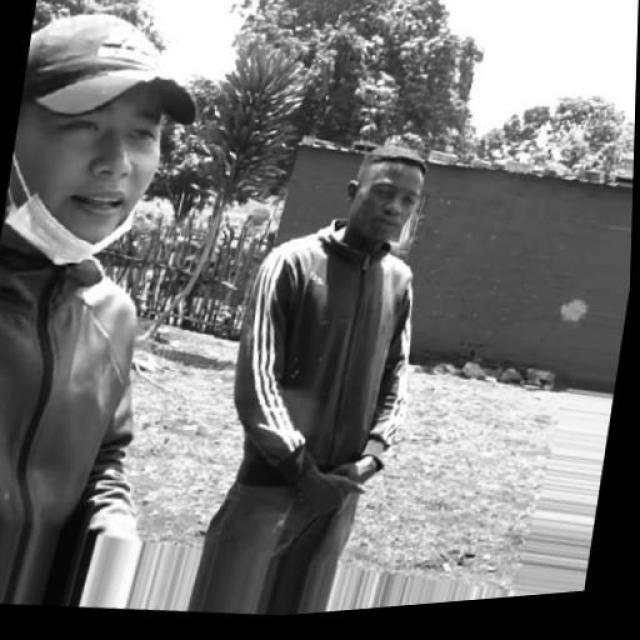hairnet: (0, 106, 168, 280)
